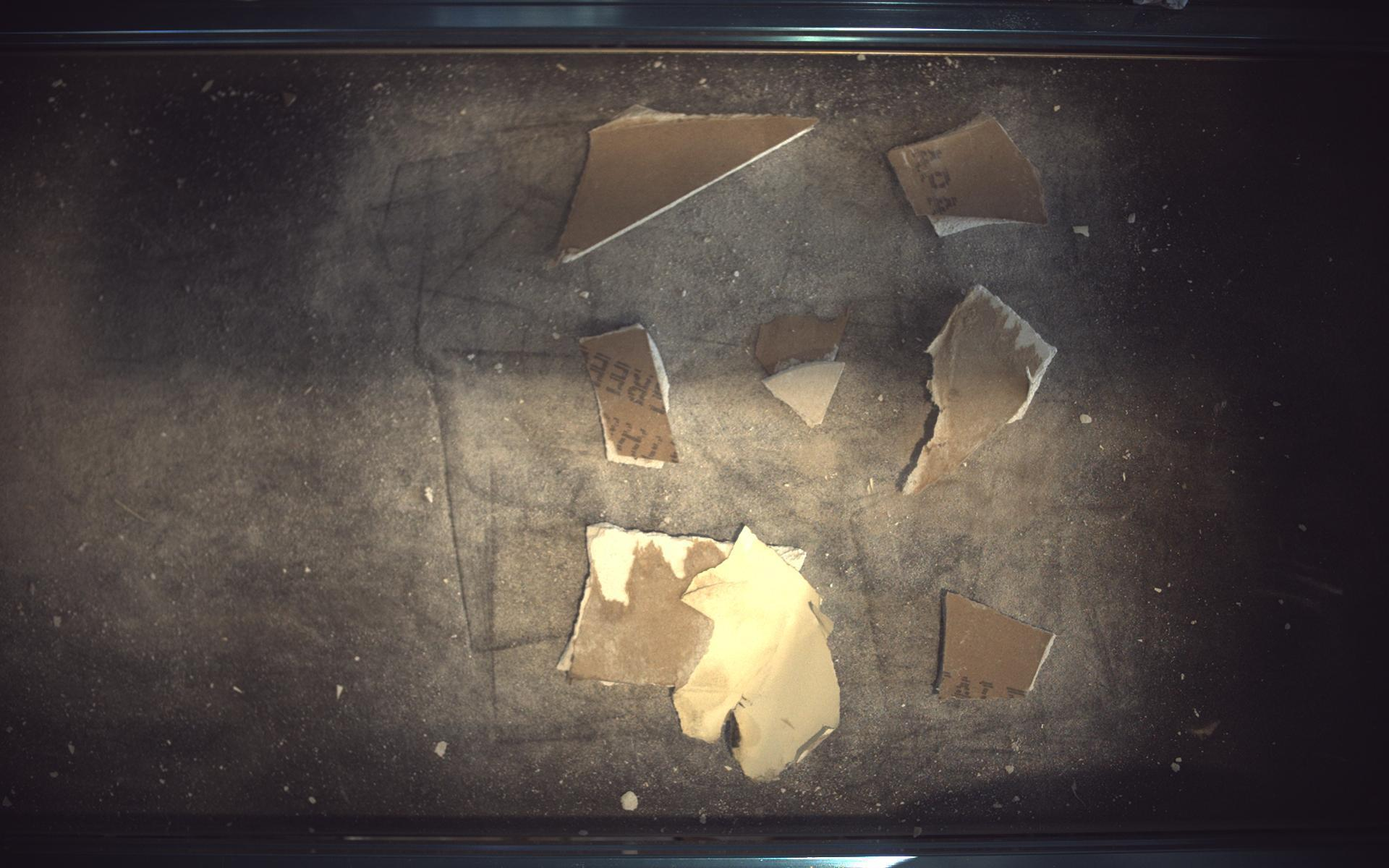gypsum_board: (558, 524, 841, 782), (555, 104, 818, 263), (905, 284, 1059, 495), (888, 114, 1050, 236), (580, 323, 679, 468), (937, 591, 1058, 701), (756, 310, 851, 427)
